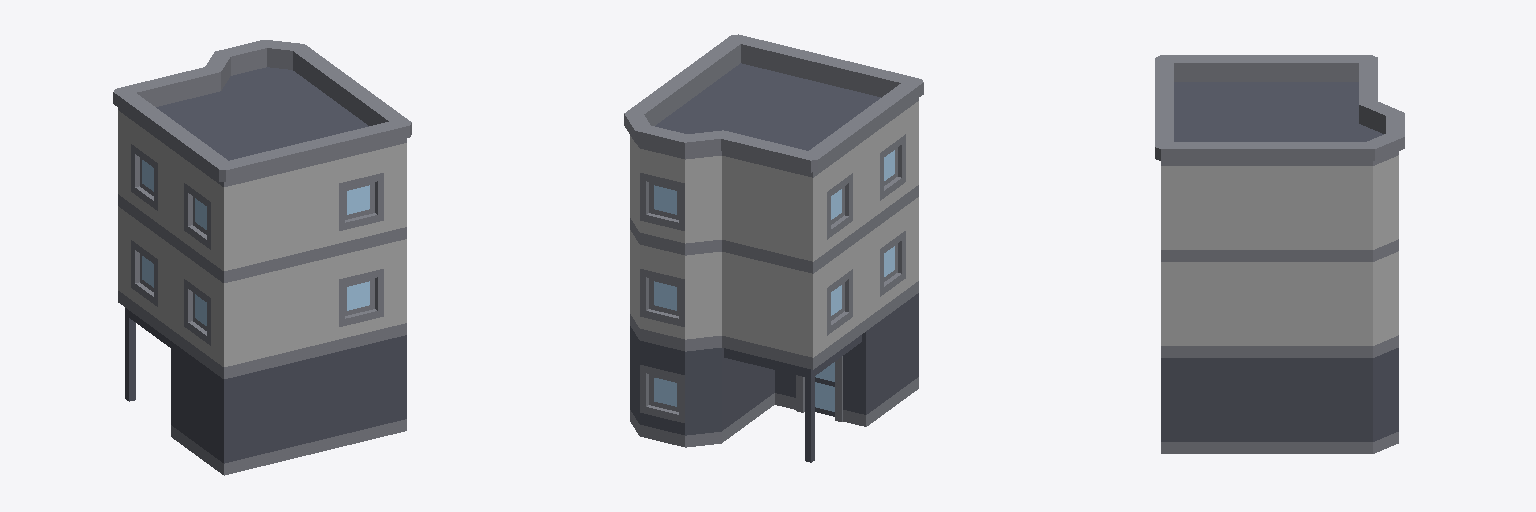
Rendered from small_buildingC.obj.
3 renders of one model, left to right at view 1: azimuth 30°, elevation 25°; view 2: azimuth 150°, elevation 25°; view 3: azimuth 270°, elevation 25°, orthographic.
Visible parts, largest first — view 1: small_buildingC; view 2: small_buildingC; view 3: small_buildingC.
Part boxes in pixels (x1,y1,x2,y2): small_buildingC: (113, 40, 411, 475); small_buildingC: (624, 34, 923, 462); small_buildingC: (1155, 55, 1404, 453).
Bounding box in the file's own units: 0.84 × 1.28 × 0.94.